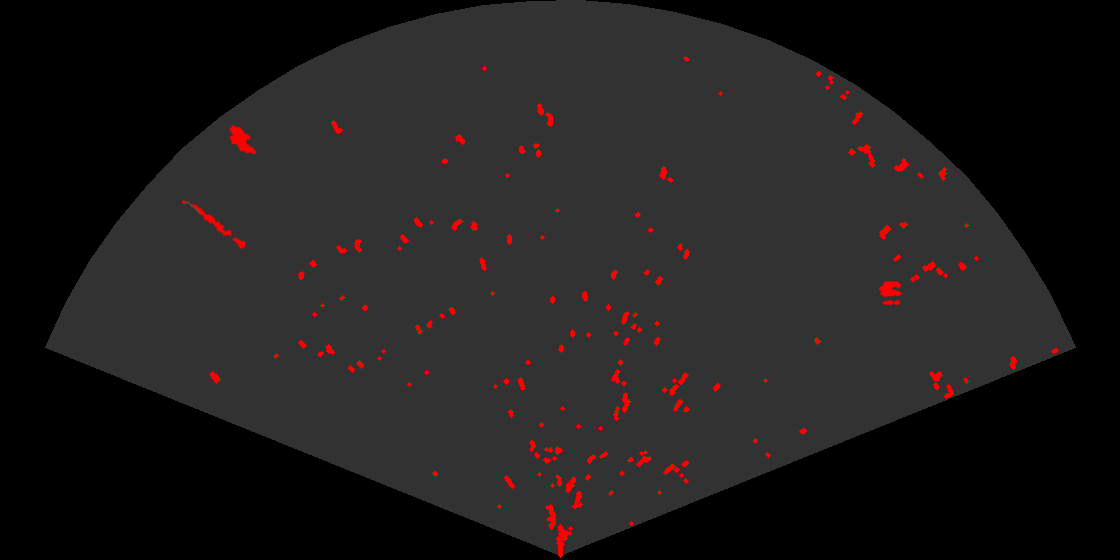AUV: (228, 123, 258, 156)
ball: (878, 280, 904, 307)
chain: (180, 199, 256, 254)
